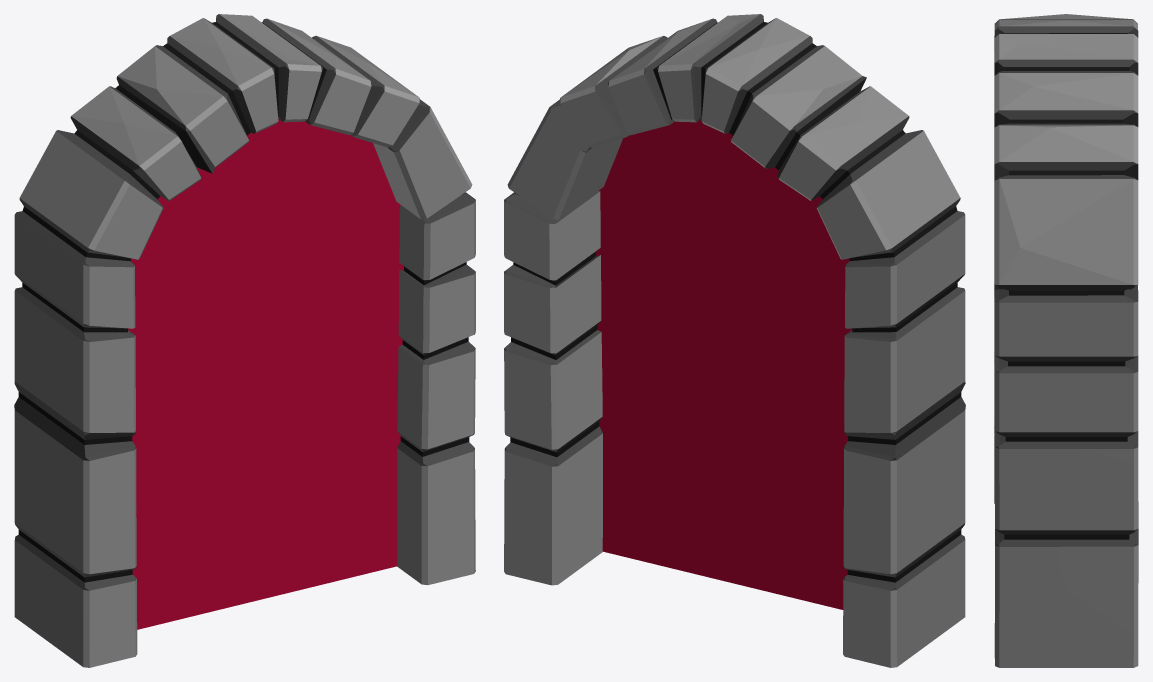
The model's file is portalRed 1.fbx.
3 renders of one model, left to right at view 1: azimuth 30°, elevation 25°; view 2: azimuth 150°, elevation 25°; view 3: azimuth 270°, elevation 25°, orthographic.
Parts seen in each view (by area): view 1: PortalRed; view 2: PortalRed; view 3: PortalRed.
Part boxes in pixels (bbox=[...]): PortalRed: bbox=[14, 14, 475, 667]; PortalRed: bbox=[504, 14, 965, 667]; PortalRed: bbox=[994, 14, 1138, 667].
Size of the model in its own units: 284 by 382 by 91.8.
